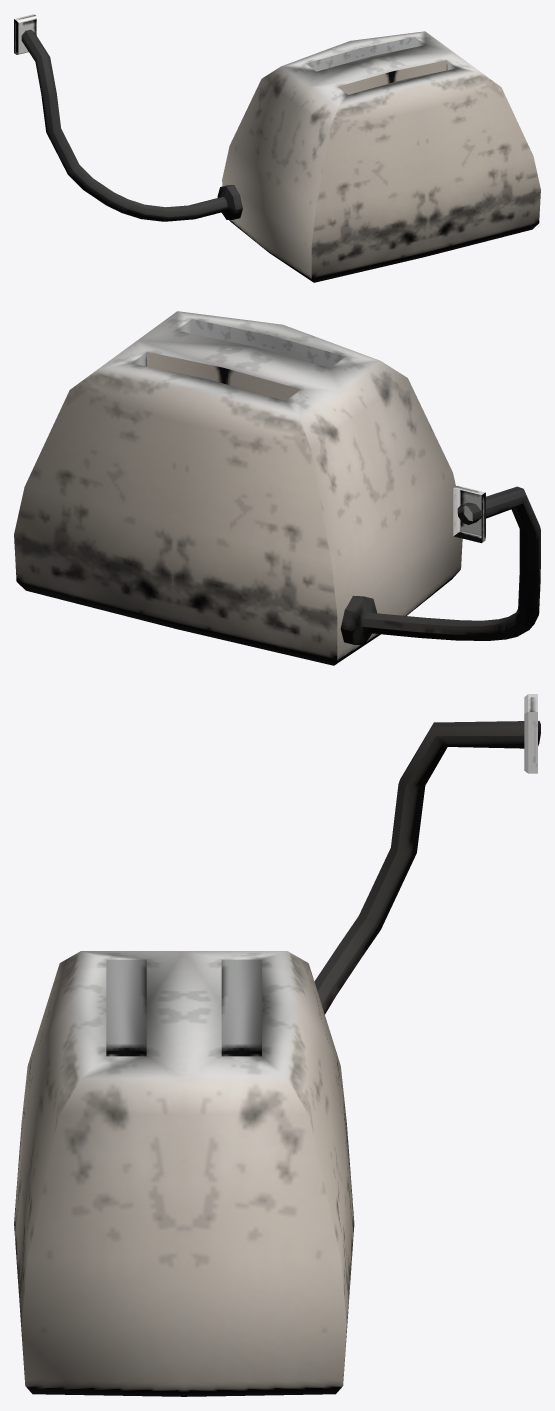
File: Toaster.fbx
3 views of the same model, one above another, from view 1: azimuth 30°, elevation 25°; view 2: azimuth 150°, elevation 25°; view 3: azimuth 270°, elevation 25° (orthographic). The views are drawn at different scales.
Parts seen in each view (by area): view 1: pCylinder5; view 2: pCylinder5; view 3: pCylinder5.
Part boxes in pixels (box(x1,y1,x2,y2)): pCylinder5: box(14, 14, 540, 282); pCylinder5: box(14, 311, 540, 665); pCylinder5: box(14, 694, 540, 1396).
Bounding box in the file's own units: 60.52 × 29.48 × 38.62.
